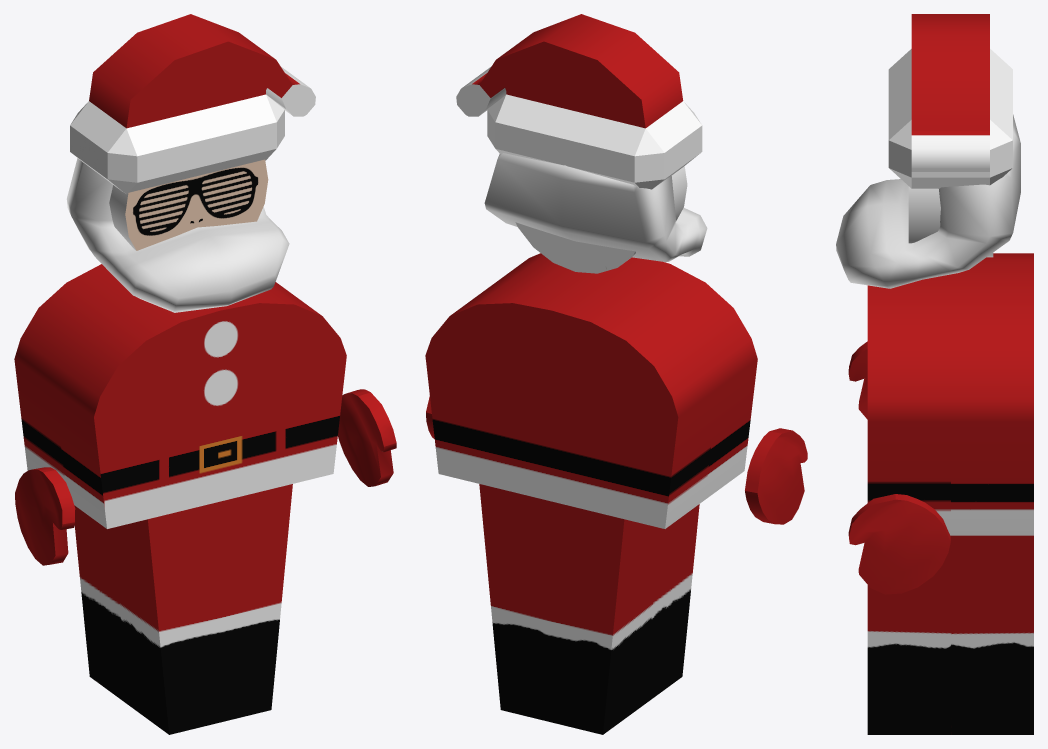
File: SANTA.fbx
The picture shows the model from 3 angles, left to right: view 1: azimuth 30°, elevation 25°; view 2: azimuth 150°, elevation 25°; view 3: azimuth 270°, elevation 25°; orthographic projection. The views are drawn at different scales.
Parts seen in each view (by area): view 1: Body, HAT, Mous, Head, righ_hand, left_hand; view 2: Body, HAT, Mous, righ_hand, Head; view 3: Body, HAT, Mous, left_hand, Head, righ_hand.
Part boxes in pixels (x1,y1,x2,y2): Body: (14, 264, 346, 734); HAT: (70, 14, 315, 194); Mous: (66, 158, 289, 312); Head: (109, 159, 268, 250); righ_hand: (15, 467, 75, 565); left_hand: (338, 389, 396, 486); Body: (425, 253, 757, 734); HAT: (456, 14, 702, 189); Mous: (484, 153, 707, 262); righ_hand: (745, 428, 807, 524); Head: (515, 166, 687, 273); Body: (867, 253, 1033, 734); HAT: (888, 14, 1012, 188); Mous: (836, 114, 1020, 288); left_hand: (848, 494, 950, 594); Head: (908, 186, 993, 257); righ_hand: (848, 341, 867, 419).
Size of the model in its own units: 5.04 by 9.32 by 2.43.
3 materials, 2 textured.
